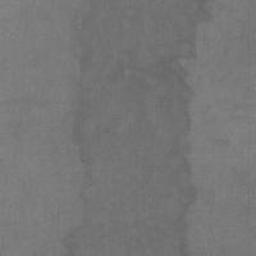Water spot: (55, 0, 219, 256)
